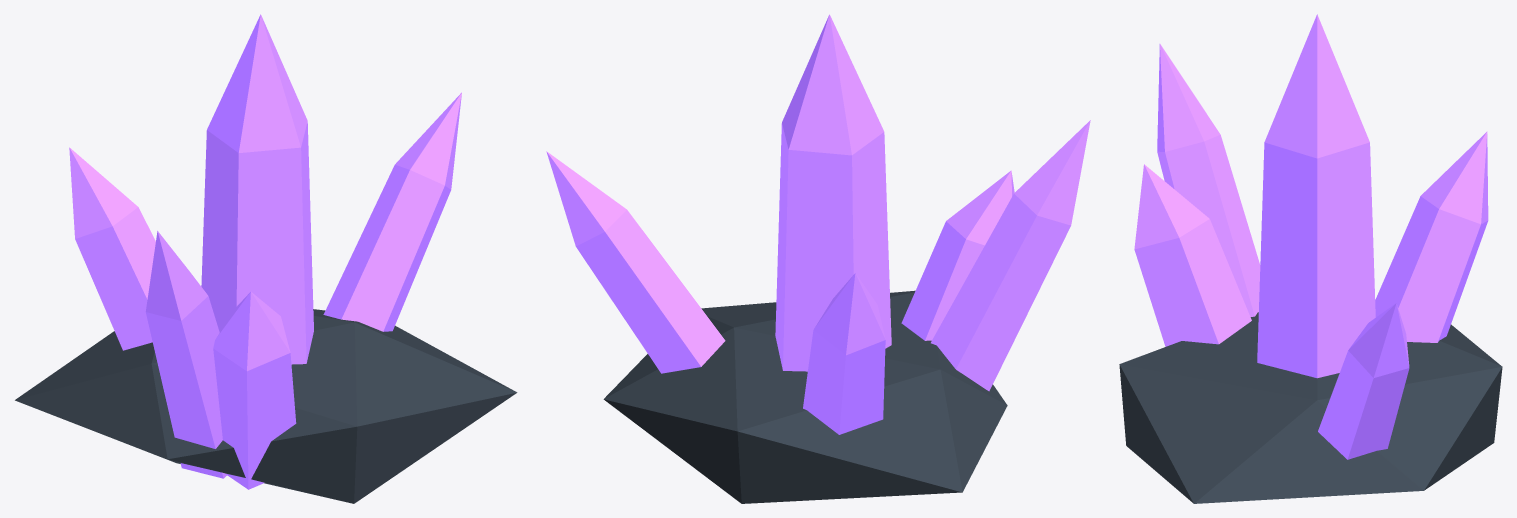
File: crystal-cluster-1.glb
3 renders of one model, left to right at view 1: azimuth 30°, elevation 25°; view 2: azimuth 150°, elevation 25°; view 3: azimuth 270°, elevation 25°, orthographic. The views are drawn at different scales.
Parts seen in each view (by area): view 1: crystal_cluster_1; view 2: crystal_cluster_1; view 3: crystal_cluster_1.
Boxes of the visible parts, box(x1,y1,x2,y2) form: crystal_cluster_1: box(15, 14, 517, 503); crystal_cluster_1: box(546, 14, 1090, 503); crystal_cluster_1: box(1119, 14, 1502, 503).
Bounding box in the file's own units: 0.7681 × 0.7338 × 0.5806.
